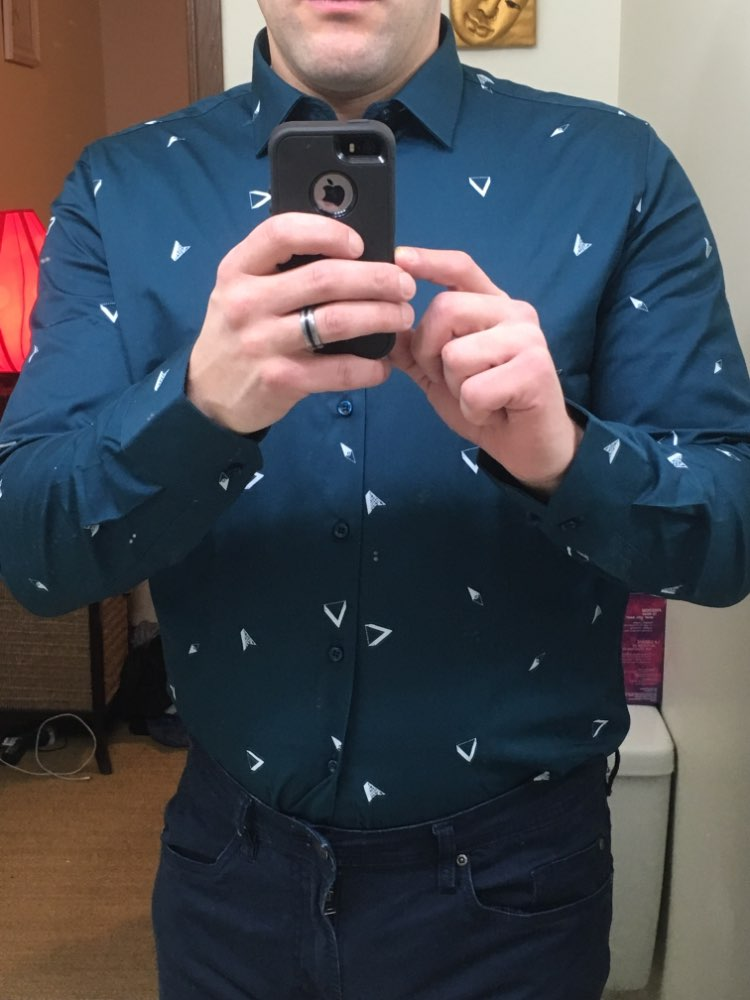shirts: (32, 35, 750, 844)
